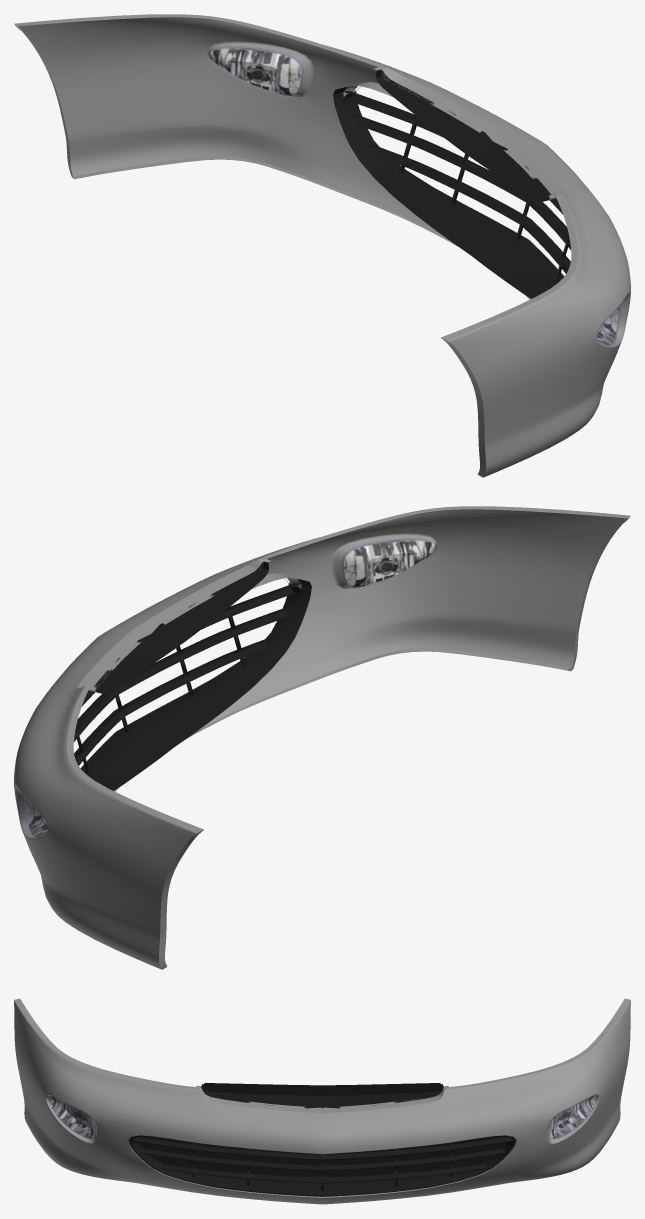
3 views of the same model, one above another, from view 1: azimuth 30°, elevation 25°; view 2: azimuth 150°, elevation 25°; view 3: azimuth 270°, elevation 25° (orthographic). The views are drawn at different scales.
Parts seen in each view (by area): view 1: U234_021G_C_U234_021G_C_5_DaS, U234_021G_C_U234_021G_C_3_D, U234_021G_C_U234_021G_C_4_D, U234_021G_C_U234_021G_C_5_DaS_E, U234_021G_C_1_N_U234_021G_C; view 2: U234_021G_C_U234_021G_C_5_DaS, U234_021G_C_U234_021G_C_3_D, U234_021G_C_U234_021G_C_4_D, U234_021G_C_U234_021G_C_5_DaS_E, U234_021G_C_U234_021G_C_2_N; view 3: U234_021G_C_U234_021G_C_5_DaS, U234_021G_C_U234_021G_C_3_D, U234_021G_C_U234_021G_C_4_D, U234_021G_C_U234_021G_C_5_DaS_E, U234_021G_C_U234_021G_C_6_DTaSI, U234_021G_C_U234_021G_C_7_DTaSI, U234_021G_C_1_N_U234_021G_C, U234_021G_C_U234_021G_C_2_N.
Part boxes in pixels (x1,y1,x2,y2): U234_021G_C_U234_021G_C_5_DaS: (18,17,630,477); U234_021G_C_U234_021G_C_3_D: (342,87,570,287); U234_021G_C_U234_021G_C_4_D: (333,69,551,298); U234_021G_C_U234_021G_C_5_DaS_E: (14,14,577,477); U234_021G_C_1_N_U234_021G_C: (209,47,301,95); U234_021G_C_U234_021G_C_5_DaS: (14,509,626,969); U234_021G_C_U234_021G_C_3_D: (74,579,302,779); U234_021G_C_U234_021G_C_4_D: (93,561,311,790); U234_021G_C_U234_021G_C_5_DaS_E: (67,506,630,969); U234_021G_C_U234_021G_C_2_N: (343,539,435,587); U234_021G_C_U234_021G_C_5_DaS: (14,1000,630,1204); U234_021G_C_U234_021G_C_3_D: (128,1135,516,1196); U234_021G_C_U234_021G_C_4_D: (138,1083,506,1185); U234_021G_C_U234_021G_C_5_DaS_E: (14,998,630,1197); U234_021G_C_U234_021G_C_6_DTaSI: (48,1096,95,1139); U234_021G_C_U234_021G_C_7_DTaSI: (549,1096,596,1139); U234_021G_C_1_N_U234_021G_C: (549,1096,596,1138); U234_021G_C_U234_021G_C_2_N: (48,1096,95,1138).
Bounding box in the file's own units: 89.31 × 41.32 × 207.
